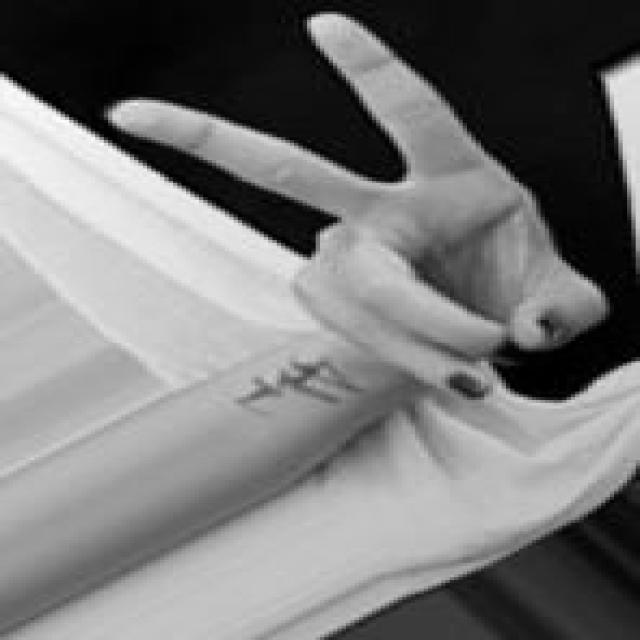V: (104, 14, 612, 406)
